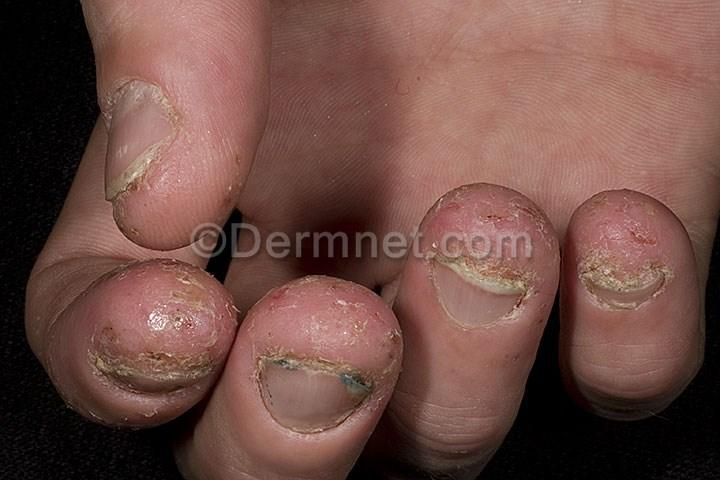Eczema: (577, 223, 623, 252), (116, 298, 149, 334), (484, 214, 518, 248), (151, 300, 184, 335), (190, 301, 217, 336), (83, 321, 114, 350), (616, 190, 644, 222), (357, 289, 379, 327), (381, 318, 403, 355), (622, 228, 659, 250), (460, 249, 489, 277), (515, 203, 540, 235), (536, 222, 555, 263), (141, 265, 173, 289), (338, 347, 366, 374), (450, 223, 479, 249), (311, 278, 336, 307), (126, 345, 157, 368), (607, 255, 630, 286), (493, 255, 522, 279), (160, 349, 189, 372), (650, 248, 671, 279), (492, 190, 515, 218), (194, 345, 217, 372), (639, 202, 667, 224), (460, 191, 489, 212), (525, 271, 544, 303), (180, 265, 202, 292), (593, 202, 624, 221), (311, 339, 333, 365), (513, 348, 534, 375), (337, 283, 356, 311), (96, 96, 116, 122), (92, 355, 116, 376), (123, 397, 147, 418), (216, 189, 240, 210), (285, 334, 306, 358), (363, 369, 377, 405), (600, 298, 625, 318), (423, 241, 454, 257), (631, 252, 650, 278), (582, 255, 604, 277), (221, 302, 234, 339), (129, 175, 145, 205), (116, 272, 140, 291), (436, 202, 461, 220), (526, 242, 543, 268), (98, 387, 121, 405), (254, 313, 274, 333), (166, 149, 179, 179), (109, 191, 128, 211), (290, 284, 311, 302), (256, 340, 279, 356), (123, 225, 151, 238), (577, 205, 594, 226), (145, 83, 163, 102), (273, 297, 292, 315), (517, 302, 534, 322), (421, 261, 437, 282), (153, 398, 168, 419), (148, 159, 161, 183), (331, 422, 351, 437), (630, 305, 653, 318), (354, 407, 371, 424), (208, 279, 223, 298), (230, 154, 247, 170), (421, 219, 437, 236), (120, 81, 139, 95), (173, 113, 184, 137), (547, 265, 559, 286), (307, 431, 328, 443), (250, 365, 264, 383), (658, 287, 673, 302), (188, 386, 202, 402), (584, 291, 598, 306), (159, 96, 171, 112), (507, 307, 516, 327), (173, 395, 185, 408), (290, 430, 304, 440), (534, 312, 540, 334)
